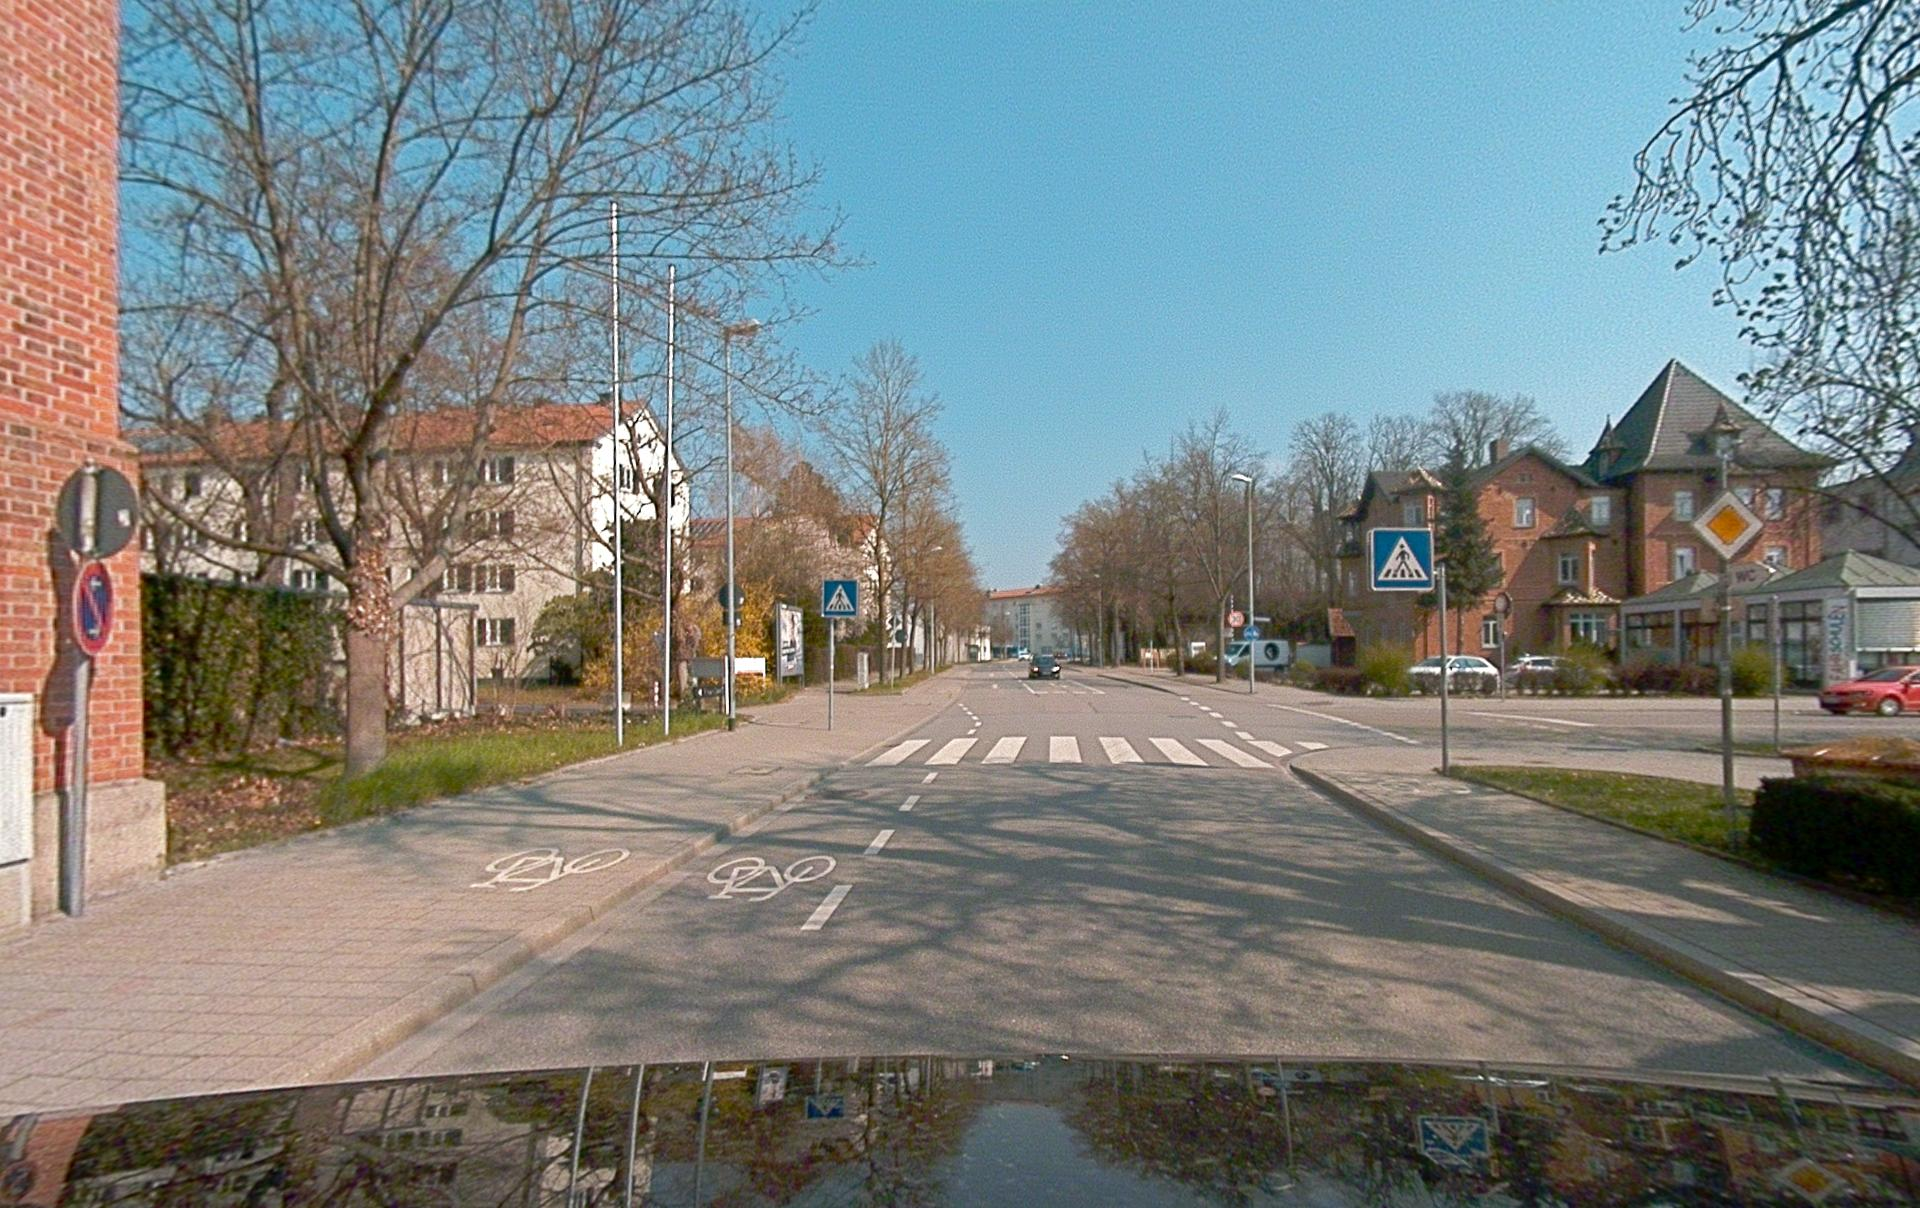car: (1818, 664, 1920, 717), (1407, 654, 1498, 693), (1504, 654, 1576, 688), (1028, 654, 1062, 679)
traffic sign: (1369, 526, 1433, 591), (821, 579, 857, 618)
